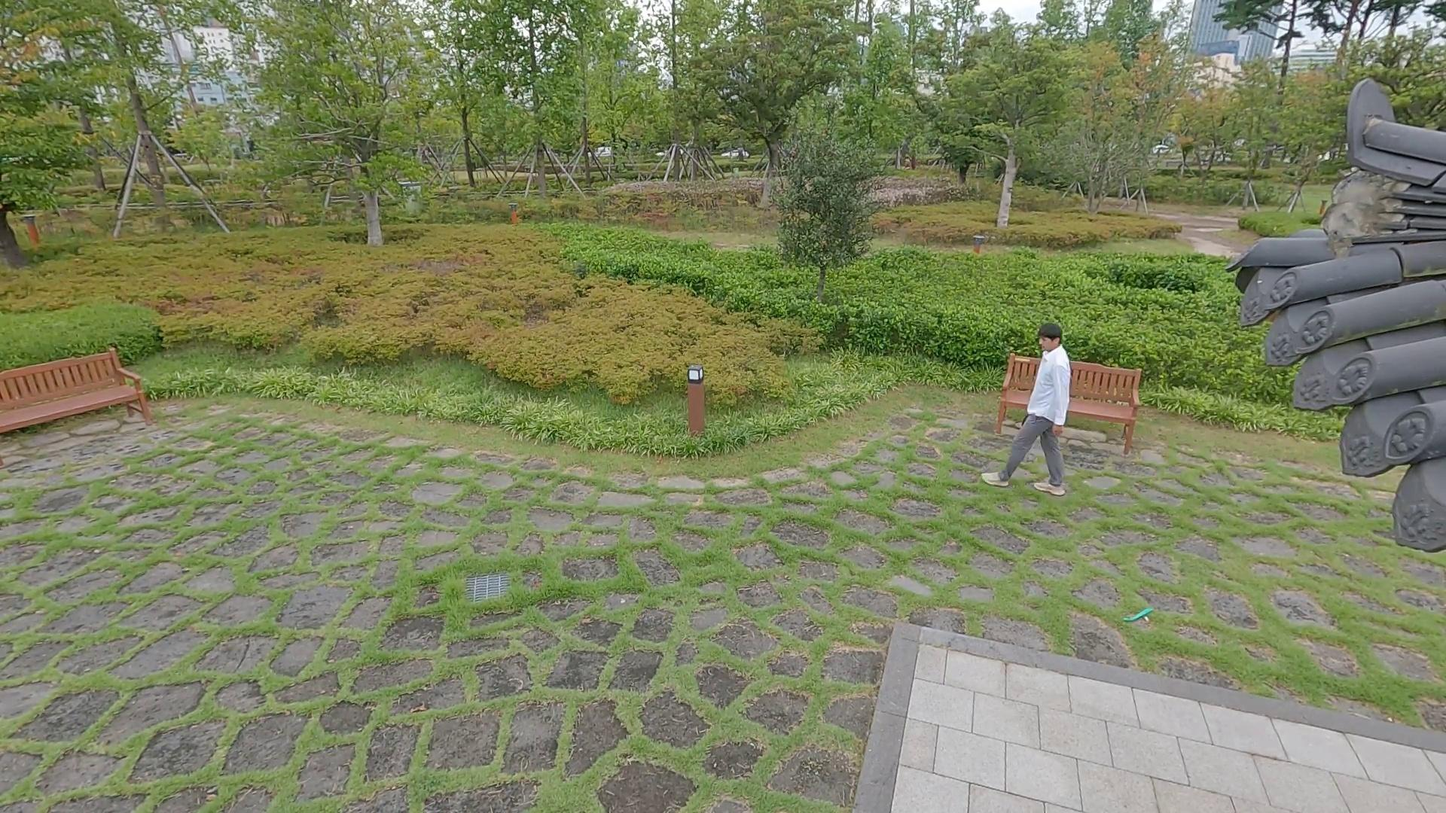person: (975, 322, 1073, 496)
